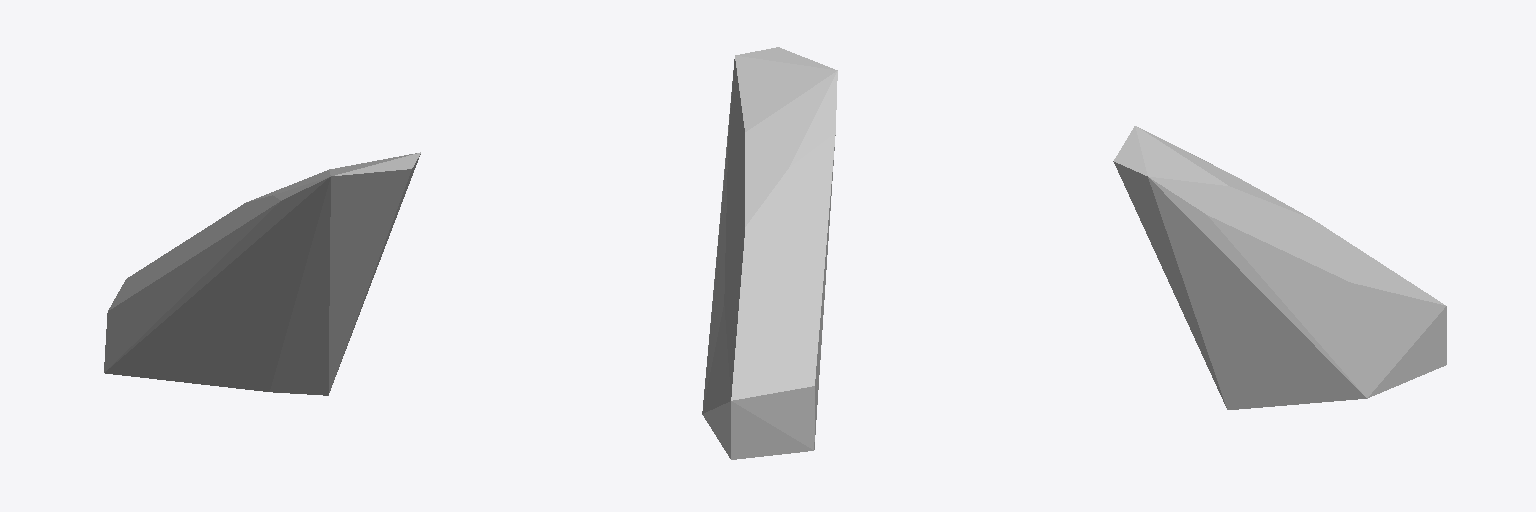
Rendered from raw_model_collision_11.obj.
3 views of the same model, side by side, from view 1: azimuth 30°, elevation 25°; view 2: azimuth 150°, elevation 25°; view 3: azimuth 270°, elevation 25° (orthographic).
Bounding box in the file's own units: 0.102 × 0.1294 × 0.1482.